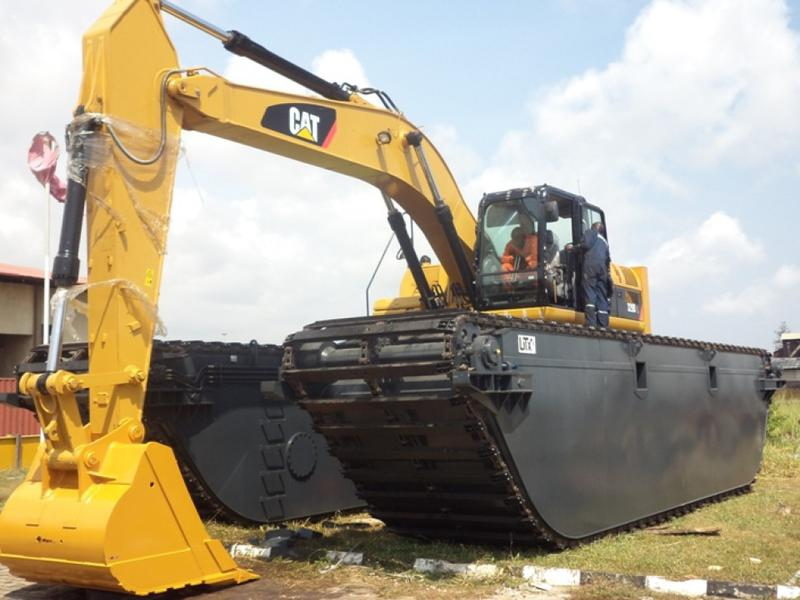shovel: (3, 3, 781, 597)
